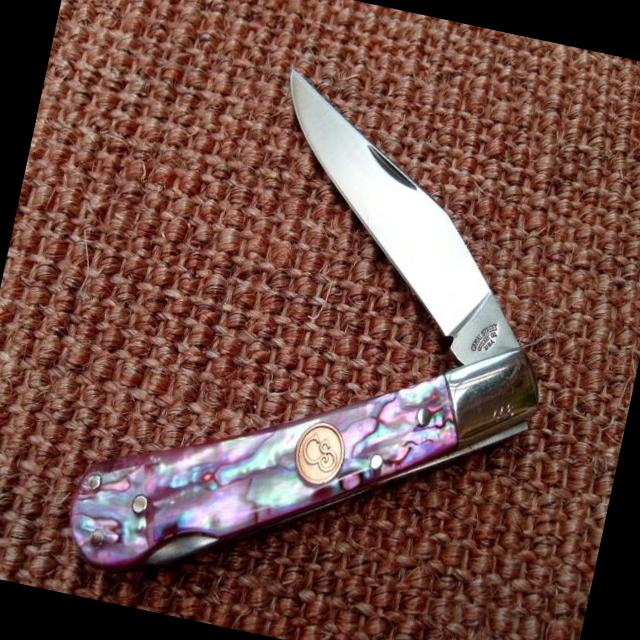Knife: (70, 72, 537, 567)
